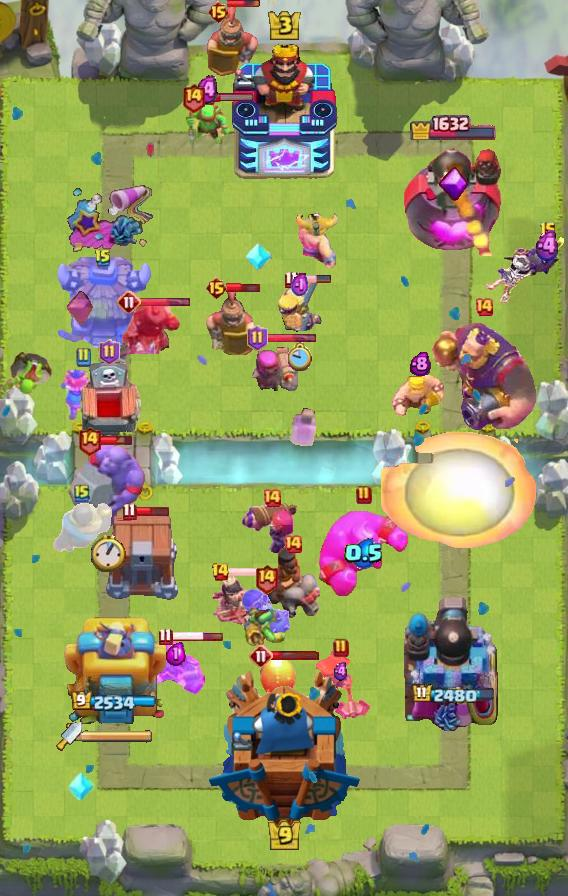bar: (170, 631, 224, 642), (265, 333, 317, 344), (139, 297, 191, 308), (204, 92, 255, 103), (270, 650, 320, 661), (226, 281, 261, 294), (227, 566, 264, 578), (135, 505, 170, 517), (99, 434, 134, 446), (296, 274, 332, 284), (227, 0, 261, 9)
bar-level: (254, 563, 279, 594), (77, 425, 102, 456), (181, 82, 206, 113), (249, 644, 273, 668), (117, 290, 141, 314), (205, 276, 228, 300), (207, 0, 230, 24), (99, 339, 120, 365), (247, 325, 268, 351), (283, 534, 303, 554), (262, 488, 282, 508), (474, 297, 494, 317), (211, 562, 230, 582), (94, 248, 112, 268), (539, 221, 557, 241), (333, 638, 349, 658), (356, 485, 372, 505), (74, 483, 90, 503), (75, 347, 91, 367), (158, 627, 173, 646), (122, 502, 137, 521), (284, 270, 299, 289)
barbarian: (392, 371, 448, 423)
barbarian-evolution: (276, 282, 324, 334)
bomber-evolution: (484, 235, 568, 305), (240, 588, 292, 644)
cannoneer-tower: (404, 593, 502, 731), (403, 138, 504, 256)
clock: (91, 534, 126, 572), (288, 342, 313, 371)
dagger-duchess-tower: (62, 611, 166, 731)
dagger-duchess-tower-bar: (82, 729, 154, 743)
elite-barbarian: (296, 212, 340, 268)
elixir: (344, 538, 384, 569), (533, 230, 563, 262), (196, 75, 218, 105), (410, 351, 431, 376), (166, 641, 186, 666), (291, 272, 309, 299), (332, 662, 350, 681)
evolution-symbol: (438, 167, 468, 203), (66, 290, 94, 326)
firecracker: (250, 341, 298, 397)
firecracker-evolution: (238, 498, 306, 554)
goblin-ball: (0, 350, 54, 398)
ice-spirit-evolution-symbol: (67, 769, 95, 803), (245, 241, 273, 273)
king-tower: (207, 669, 362, 826), (230, 41, 338, 181)
knight: (50, 499, 114, 555)
phoenix-egg: (258, 656, 298, 700)
princess: (210, 576, 256, 634)
ram-rider: (264, 544, 322, 620)
royal-recruit: (204, 4, 260, 80), (204, 287, 258, 355)
spear-goblin: (183, 98, 231, 148), (242, 605, 290, 647)
tower-bar: (409, 112, 498, 140), (411, 683, 496, 706), (71, 691, 157, 713)
valkyrie: (59, 368, 107, 422)
valkyrie-evolution: (311, 648, 371, 728), (147, 638, 205, 698)
